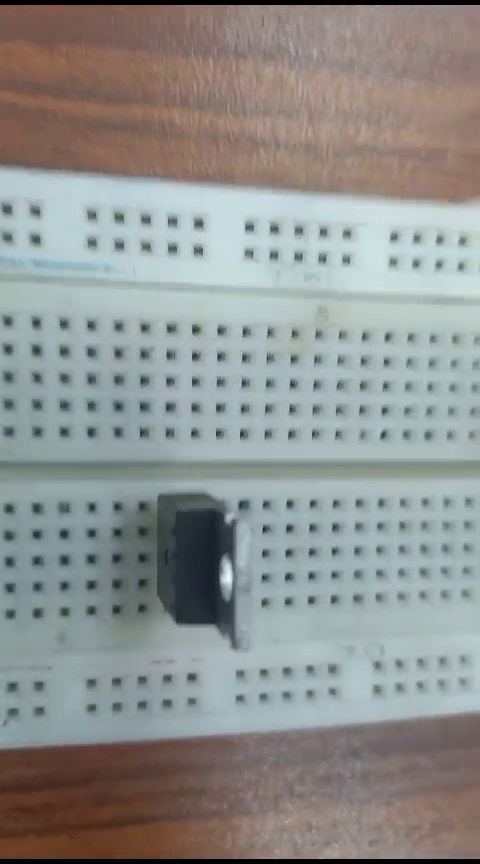voltage regulator: (145, 479, 261, 665)
